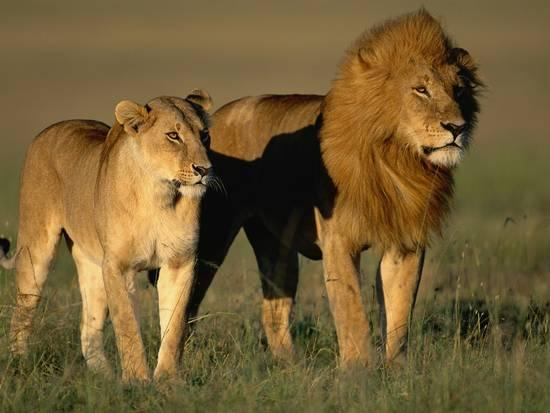lion: (132, 10, 488, 378), (1, 87, 217, 393)
